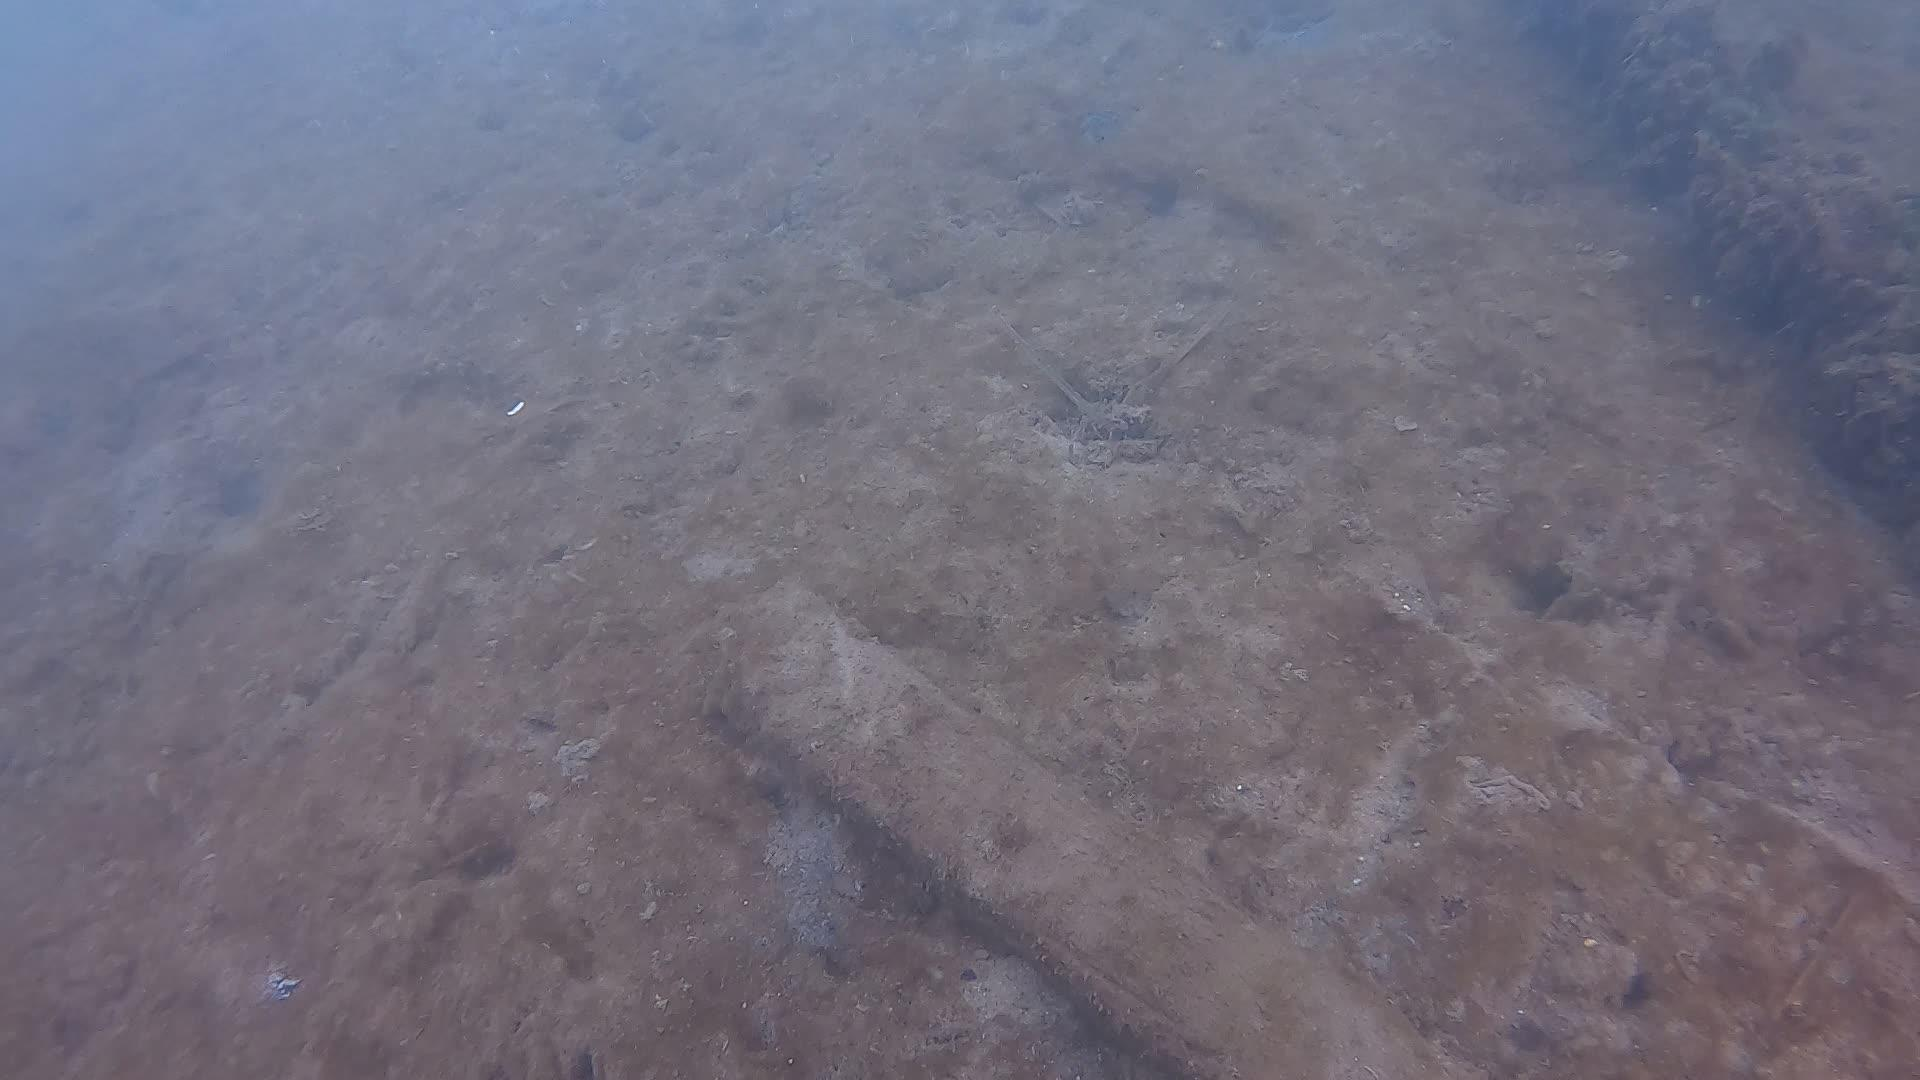wood: (691, 567, 1490, 1080)
